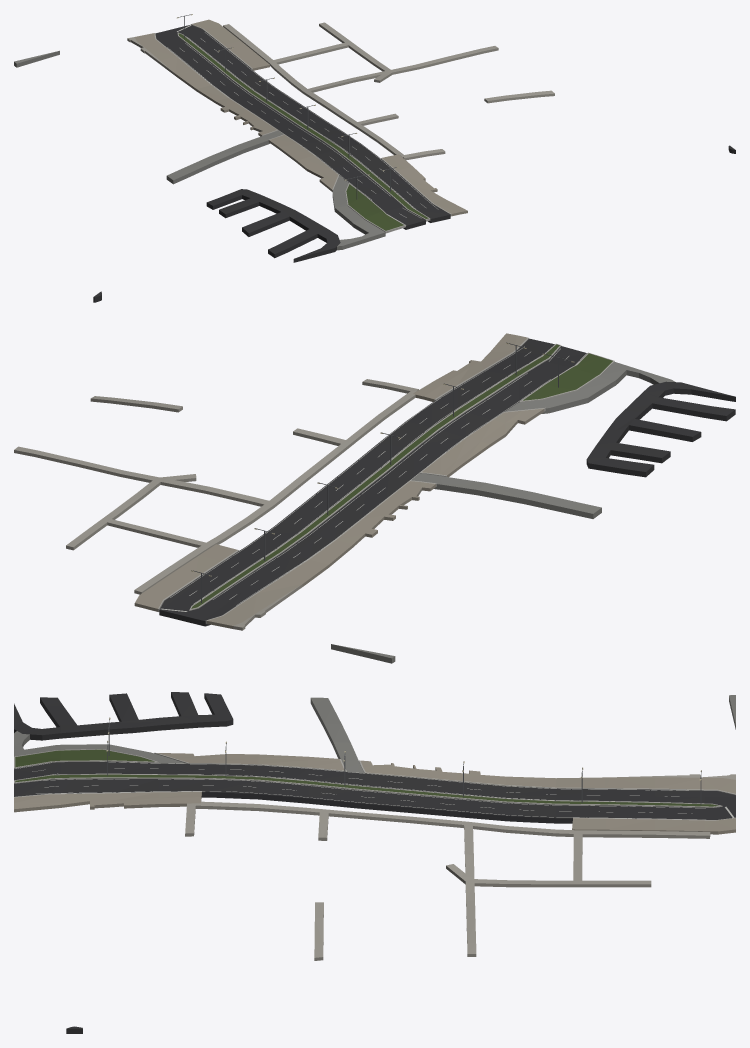
File: 18-218883-118926.dabe486d.glb
3 views of the same model, one above another, from view 1: azimuth 30°, elevation 25°; view 2: azimuth 150°, elevation 25°; view 3: azimuth 270°, elevation 25° (orthographic). The views are drawn at different scales.
Bounding box in the file's own units: 147 × 16.54 × 146.
